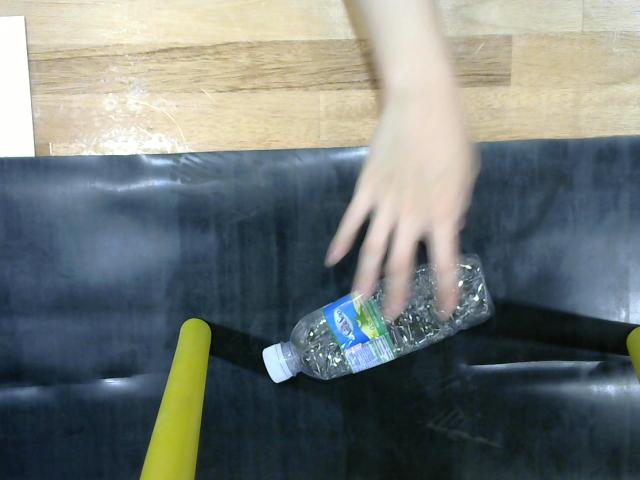bottle: (256, 253, 501, 398)
